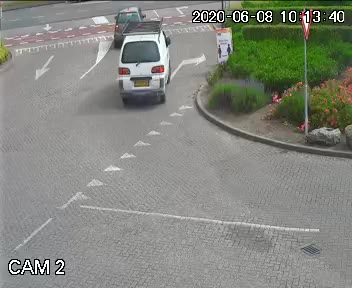car: (121, 15, 177, 117), (107, 7, 144, 45)
